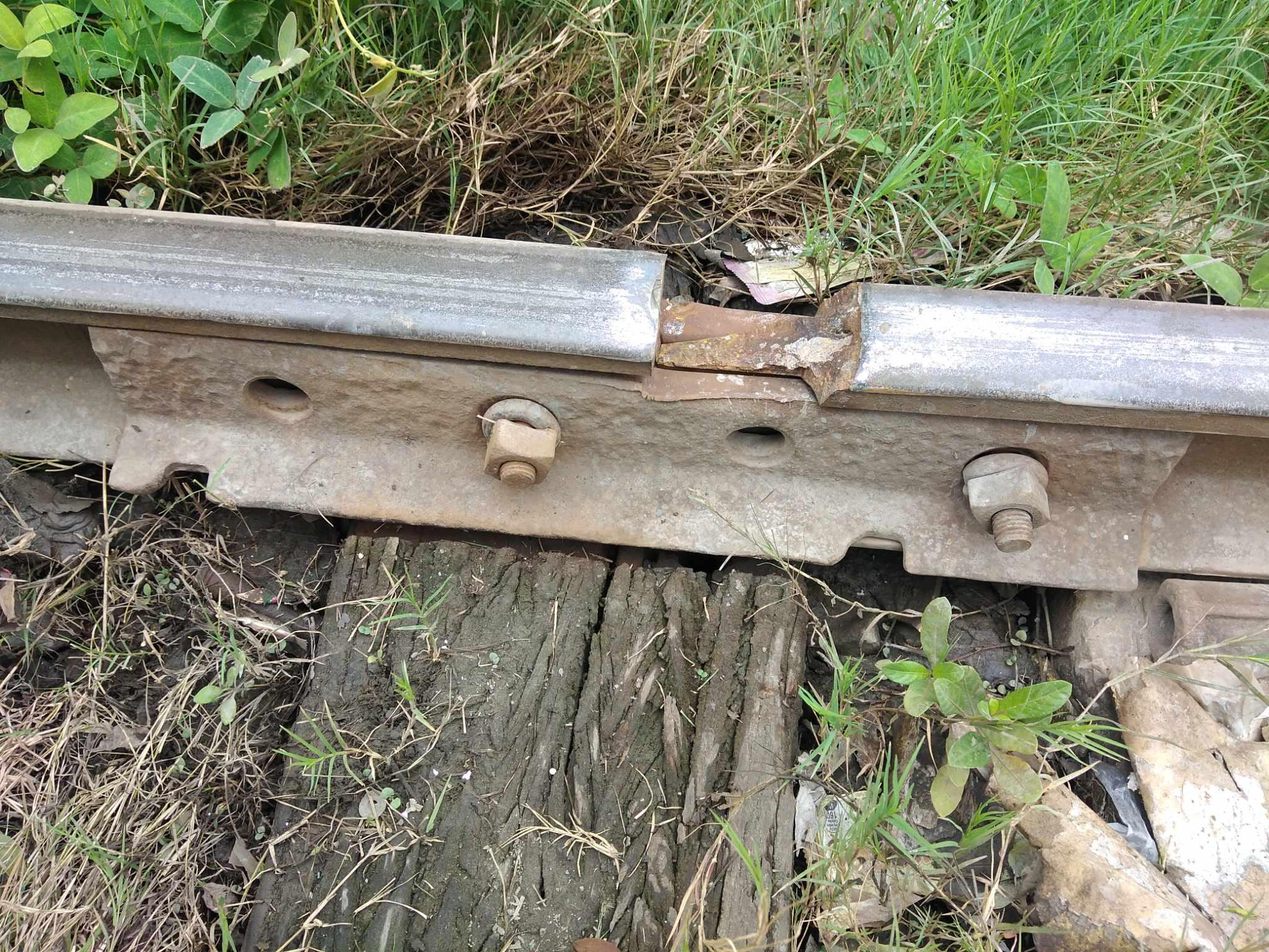railway-gap: (597, 201, 909, 447)
